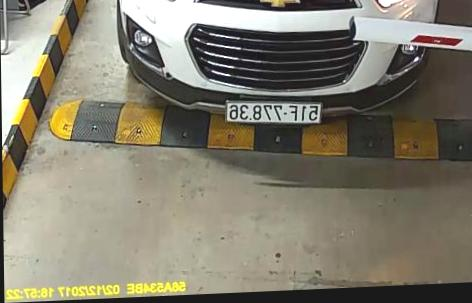License_Plate: (219, 92, 327, 130)
